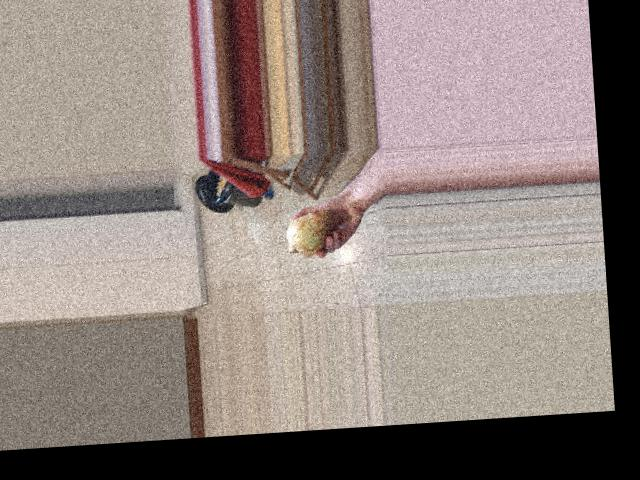onion: (284, 208, 332, 255)
